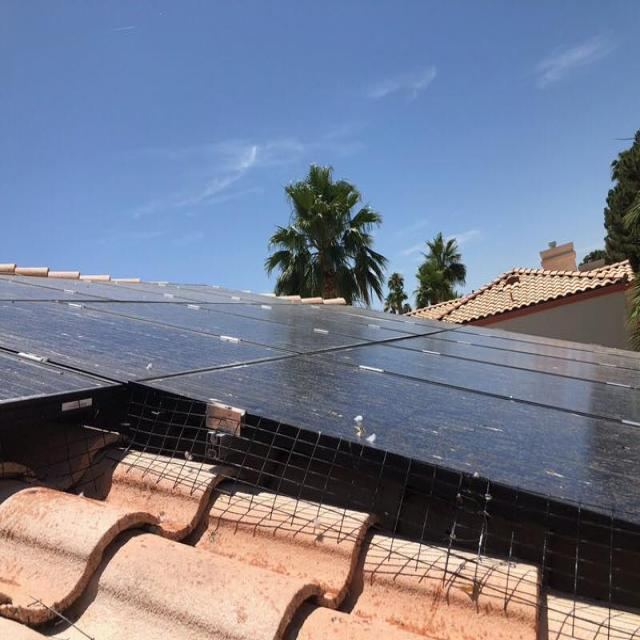dust-solar-panel: (0, 273, 640, 520)
